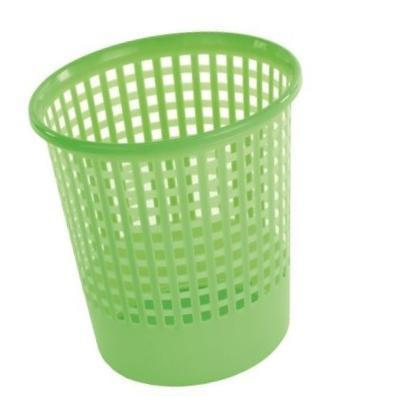Bote de Basura: (24, 30, 292, 385)
